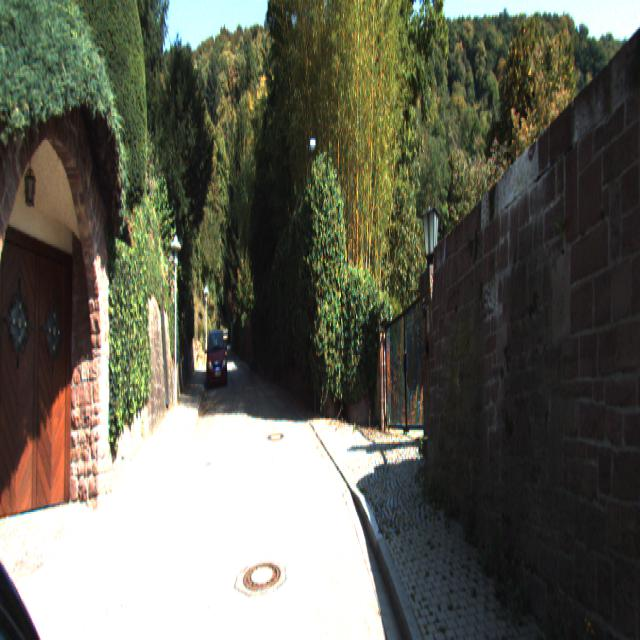Car: (206, 328, 228, 392)
